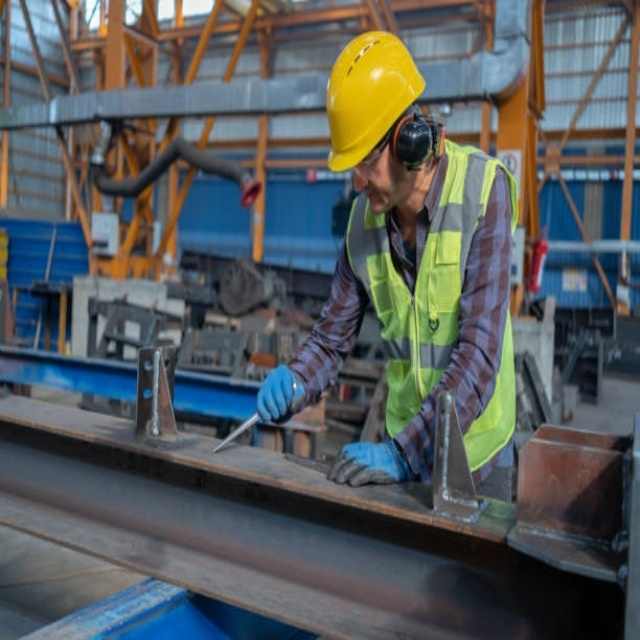Gafas: (348, 122, 398, 180)
Guantes: (331, 438, 413, 486), (256, 365, 304, 423)
Sin_mascara: (358, 185, 387, 215)
